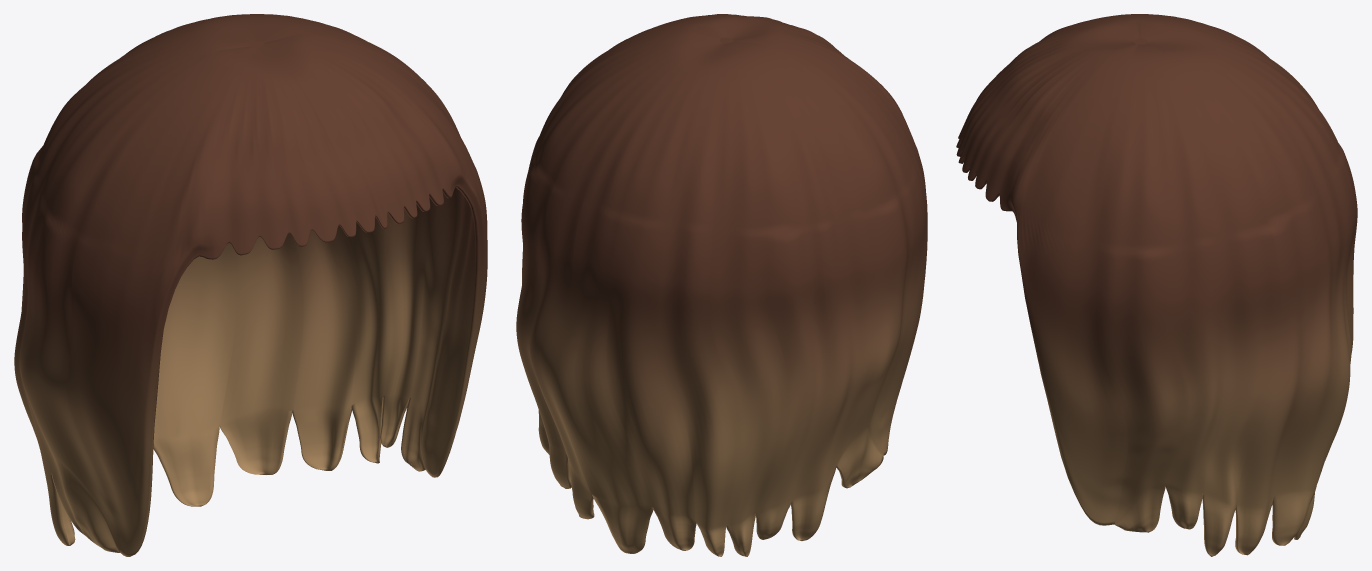
Rendered from long-cowboy-ombre.glb.
3 views of the same model, side by side, from view 1: azimuth 30°, elevation 25°; view 2: azimuth 150°, elevation 25°; view 3: azimuth 270°, elevation 25° (orthographic). The views are drawn at different scales.
Visible parts, largest first — view 1: Hair / rounded long fringe; view 2: Hair / rounded long fringe; view 3: Hair / rounded long fringe.
Boxes of the visible parts, <box> form: Hair / rounded long fringe: <box>14,14,487,556</box>; Hair / rounded long fringe: <box>516,14,927,556</box>; Hair / rounded long fringe: <box>956,14,1357,556</box>.
Bounding box in the file's own units: 0.8534 × 1.05 × 0.7801.
